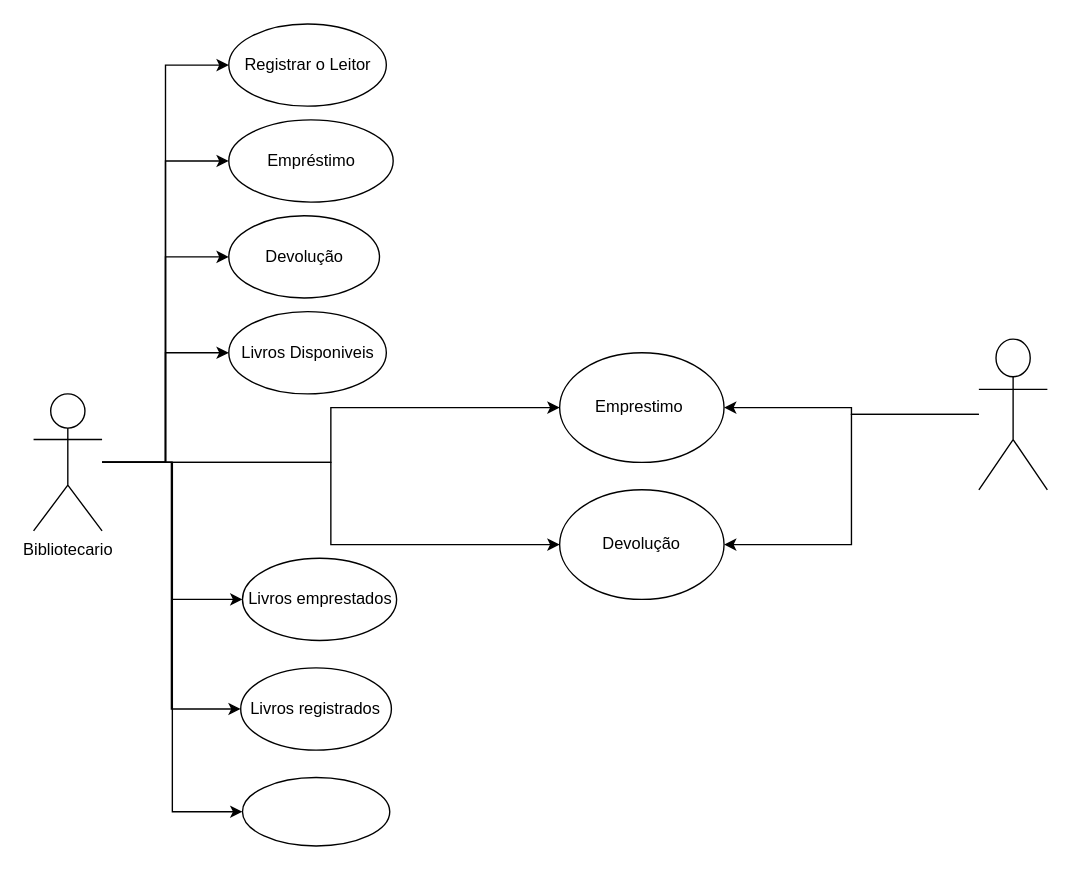
This 1071x870 diagram has some shape labels left out. The shapes that lost their labels are listed below. From the top down, each one's centre as x and y in pixels, then its label:
(x=1012, y=414): Leitor
(x=315, y=811): Históricos
